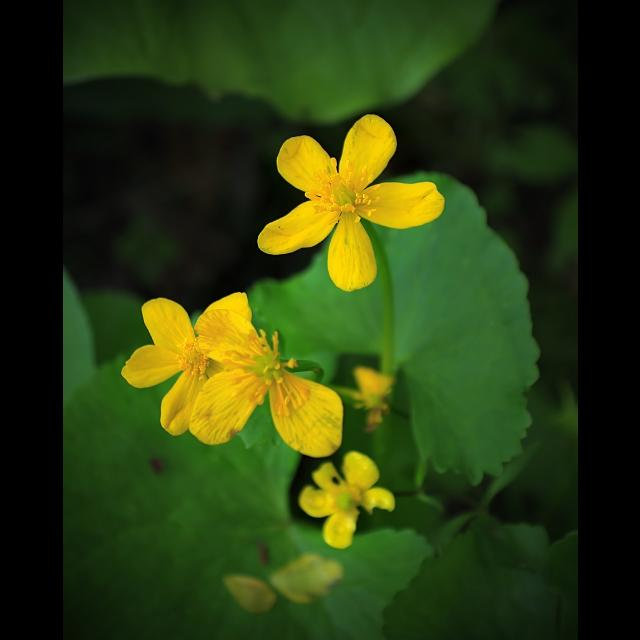Flower: (252, 113, 456, 307), (186, 301, 340, 453), (118, 296, 252, 438), (298, 444, 396, 552), (218, 552, 344, 614), (348, 358, 384, 429)
